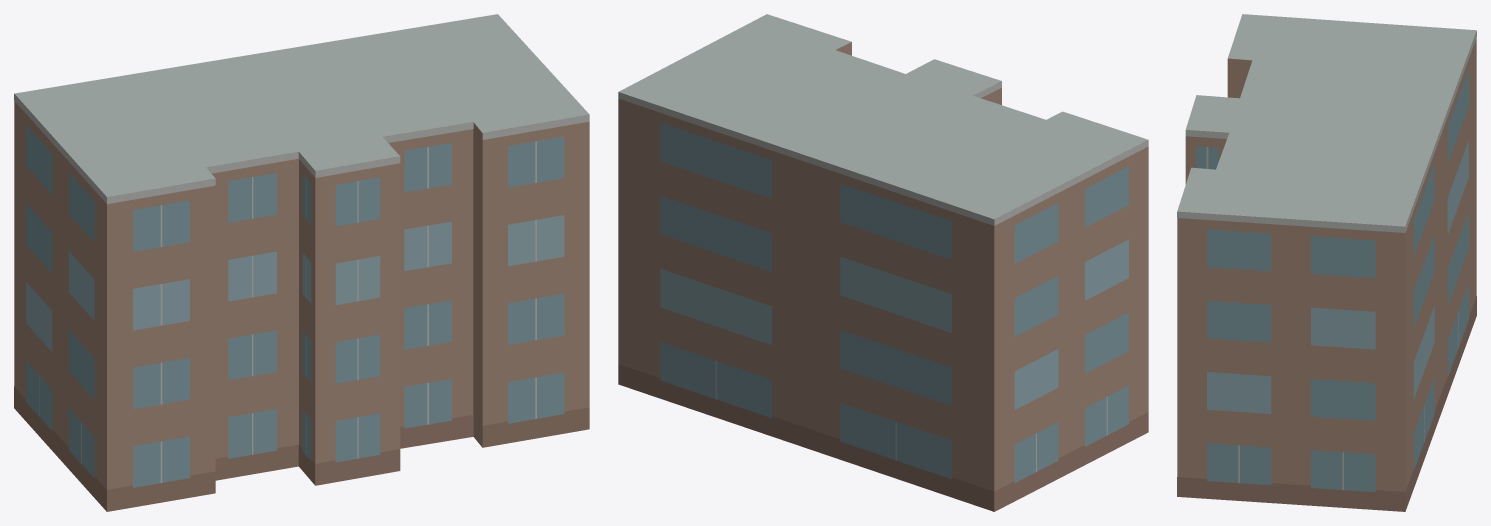
Rendered from survey-upis-32769360.glb.
3 renders of one model, left to right at view 1: azimuth 30°, elevation 25°; view 2: azimuth 150°, elevation 25°; view 3: azimuth 270°, elevation 25°, orthographic. The views are drawn at different scales.
Visible parts, largest first — view 1: survey-upis-32769360.tmp; view 2: survey-upis-32769360.tmp; view 3: survey-upis-32769360.tmp.
Boxes of the visible parts, box(x1,y1,x2,y2) form: survey-upis-32769360.tmp: box(14, 14, 589, 511); survey-upis-32769360.tmp: box(618, 14, 1148, 511); survey-upis-32769360.tmp: box(1177, 14, 1476, 511).
Bounding box in the file's own units: 17.44 × 10.9 × 10.39.
